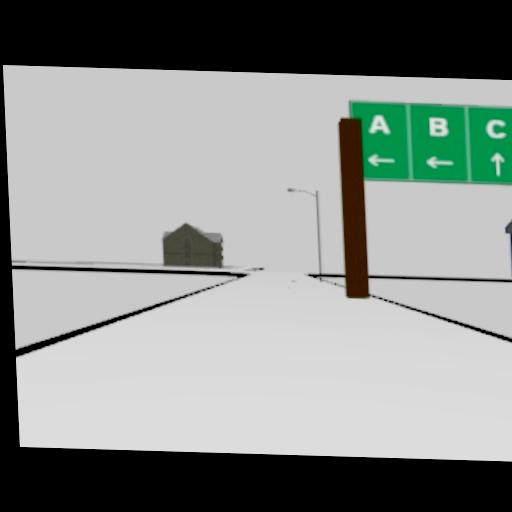A: (367, 113, 389, 135)
B: (428, 117, 448, 137)
C: (484, 119, 506, 138)
Left: (364, 153, 395, 167), (423, 155, 454, 169)
Straight: (489, 152, 505, 175)
